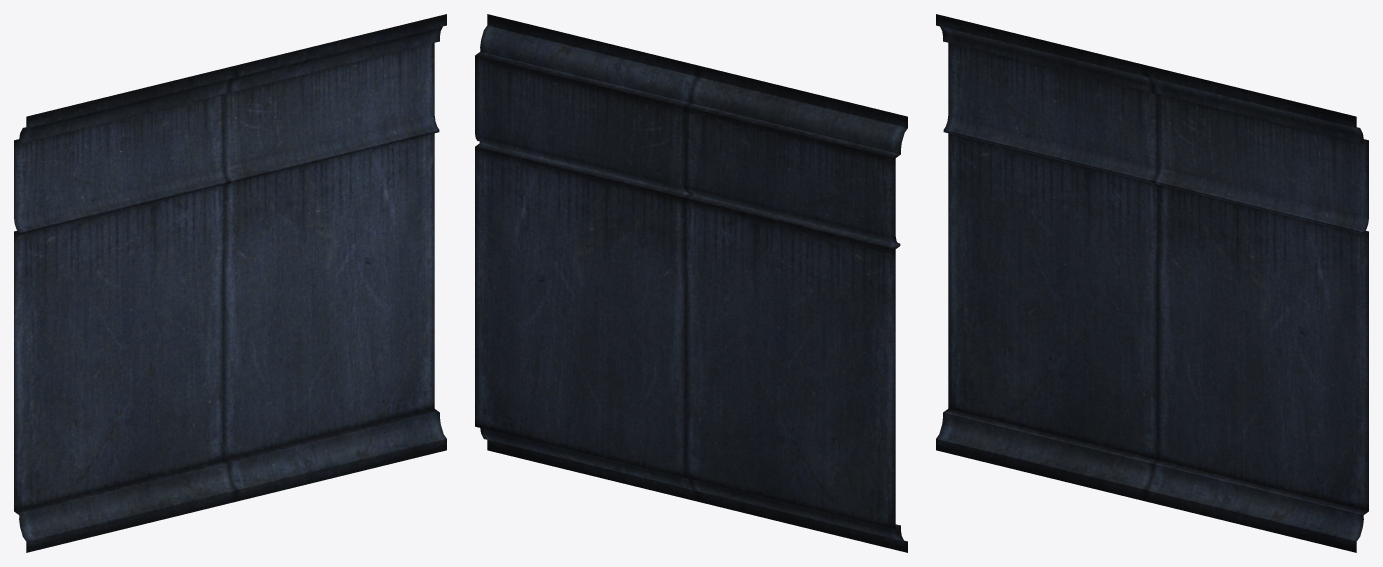
Rendered from default_extension_blue.dae.
3 views of the same model, side by side, from view 1: azimuth 30°, elevation 25°; view 2: azimuth 150°, elevation 25°; view 3: azimuth 330°, elevation 25° (orthographic).
Visible parts, largest first — view 1: mansionbase_wall_extension; view 2: mansionbase_wall_extension; view 3: mansionbase_wall_extension.
Part boxes in pixels (x1=…): mansionbase_wall_extension: x1=14, y1=14, x2=446, y2=552; mansionbase_wall_extension: x1=475, y1=14, x2=907, y2=552; mansionbase_wall_extension: x1=936, y1=14, x2=1368, y2=552.
Bounding box in the file's own units: 4 × 3.96 × 0.2011.
